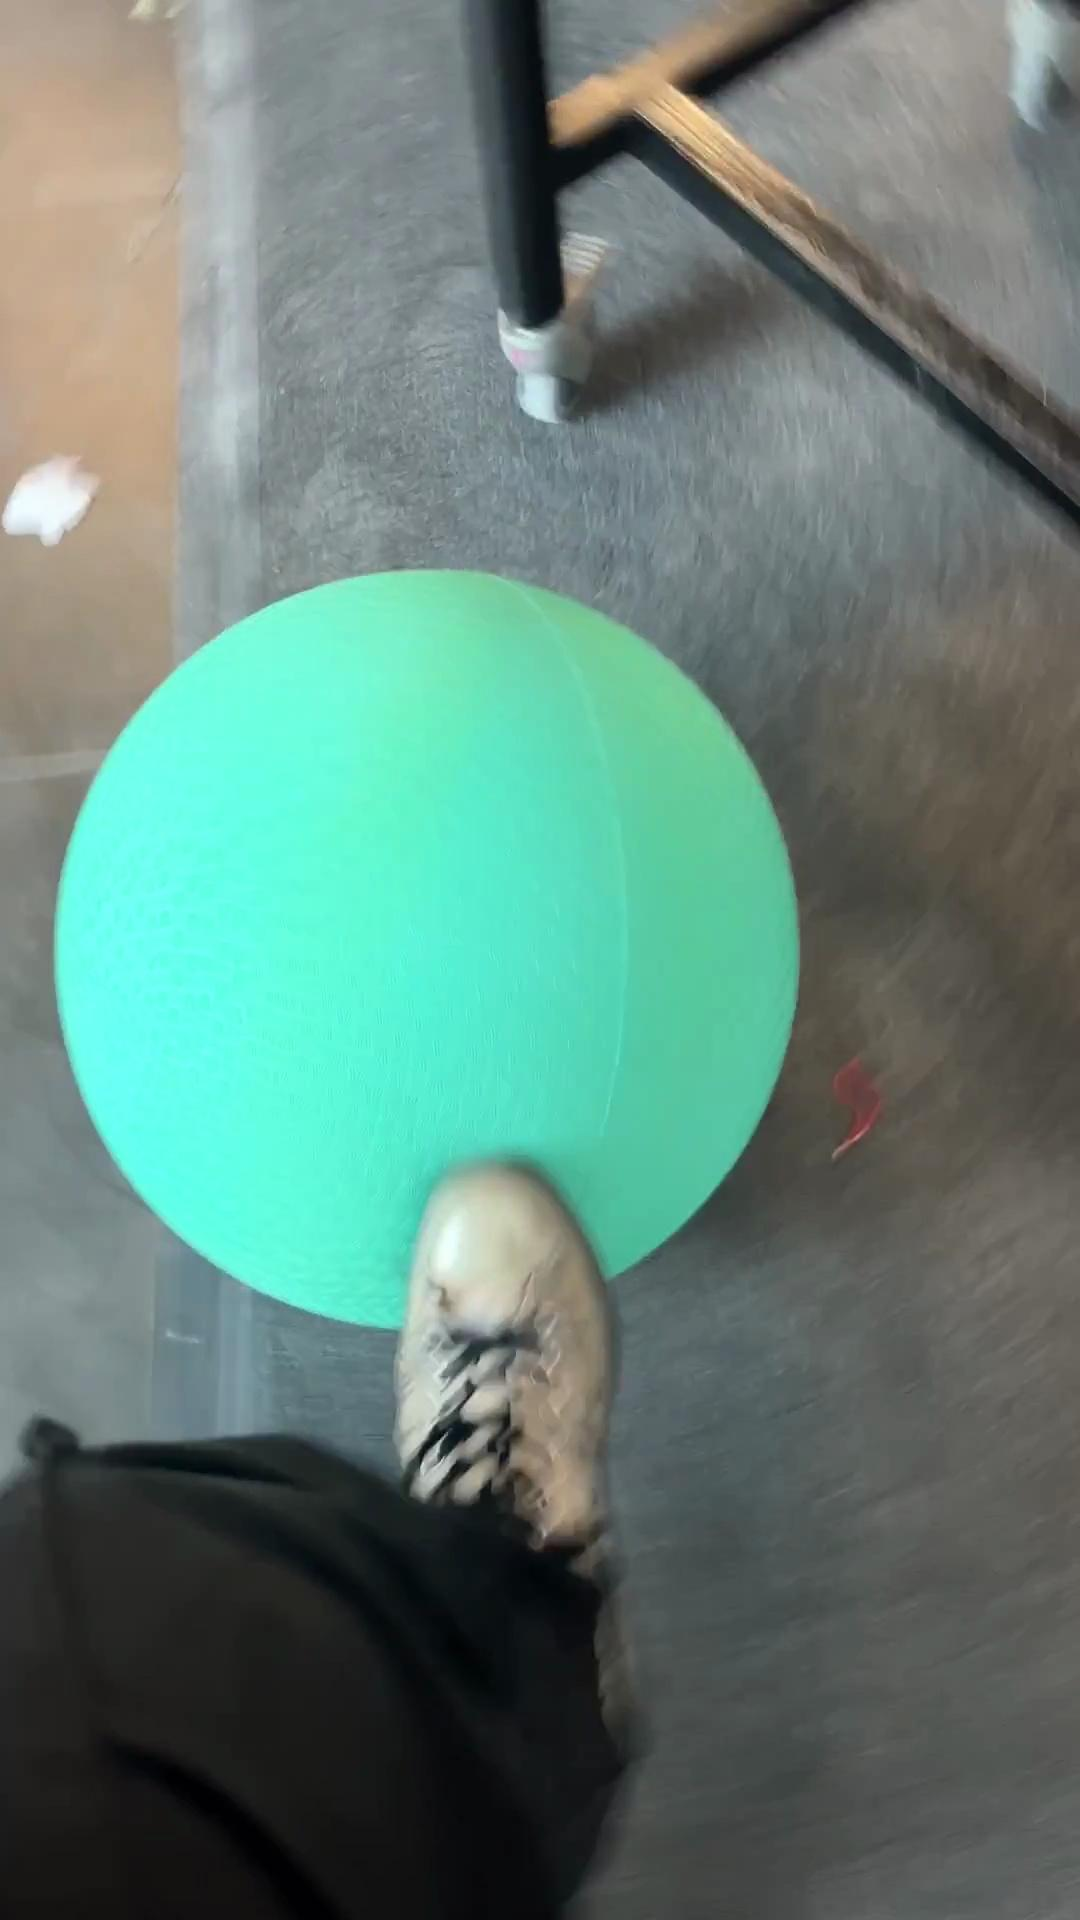ALGAE: (50, 564, 802, 1332)
